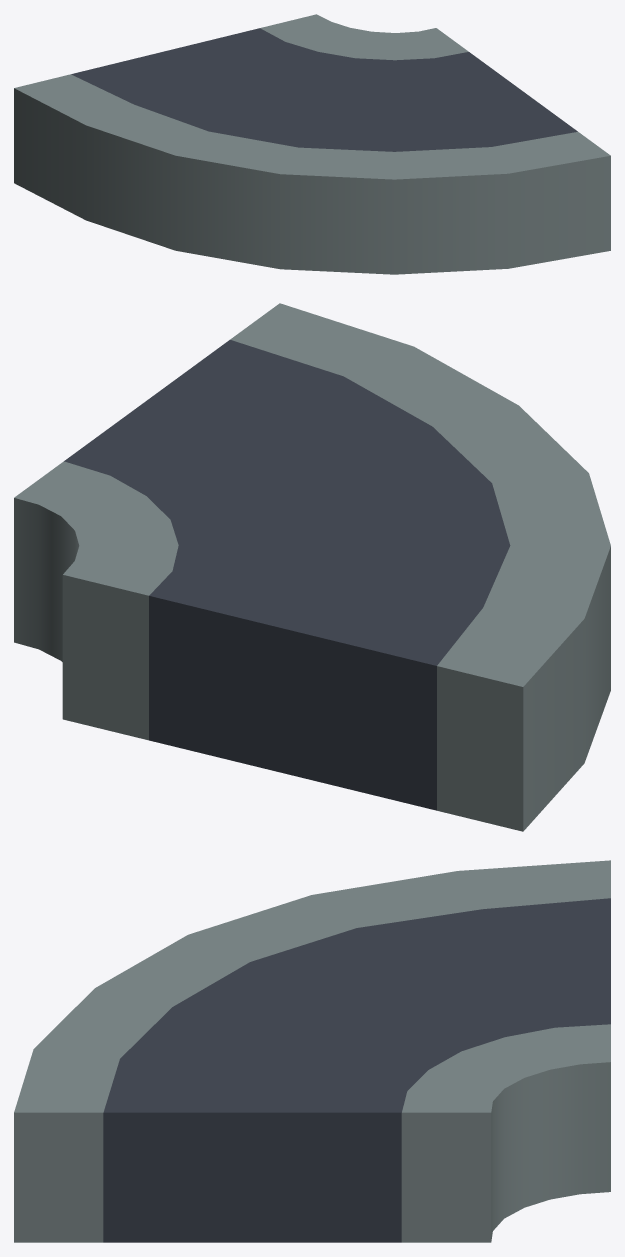
Rendered from road_part_02.FBX.
3 renders of one model, top to bottom at view 1: azimuth 30°, elevation 25°; view 2: azimuth 150°, elevation 25°; view 3: azimuth 270°, elevation 25°, orthographic. The views are drawn at different scales.
Visible parts, largest first — view 1: road_part_02; view 2: road_part_02; view 3: road_part_02.
Boxes of the visible parts, <box> form: road_part_02: <box>14,14,610,274</box>; road_part_02: <box>14,303,610,831</box>; road_part_02: <box>14,860,610,1242</box>.
Size of the model in its own units: 416 by 417 by 100.
1 material, 1 textured.
